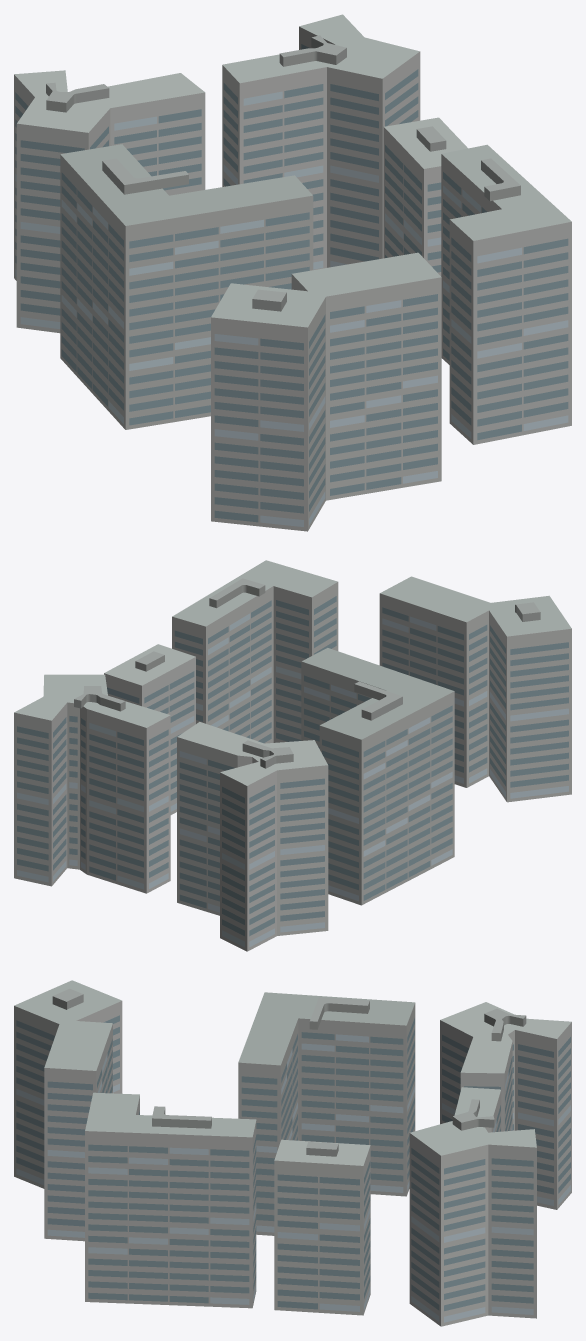
Rendered from apt-a10027371.glb.
The picture shows the model from 3 angles, top to bottom: view 1: azimuth 30°, elevation 25°; view 2: azimuth 150°, elevation 25°; view 3: azimuth 270°, elevation 25°; orthographic projection. The views are drawn at different scales.
Visible parts, largest first — view 1: apt-a10027371; view 2: apt-a10027371; view 3: apt-a10027371.
Part boxes in pixels (x1,y1,x2,y2): apt-a10027371: (14,14,571,531); apt-a10027371: (14,560,571,951); apt-a10027371: (14,980,571,1326).
Size of the model in its own units: 101 by 48 by 136.
